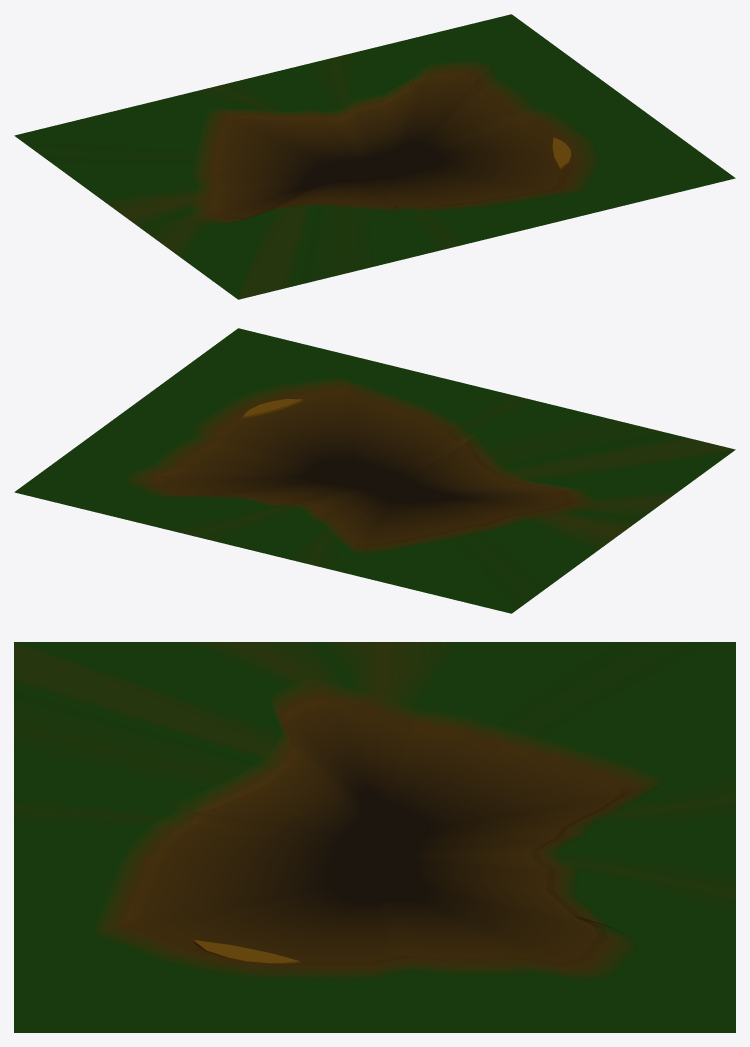
The model's file is map.dae.
3 renders of one model, top to bottom at view 1: azimuth 30°, elevation 25°; view 2: azimuth 150°, elevation 25°; view 3: azimuth 270°, elevation 25°, orthographic. The views are drawn at different scales.
Parts seen in each view (by area): view 1: Plane; view 2: Plane; view 3: Plane.
Part boxes in pixels (x1,y1,x2,y2): Plane: (14,14,735,299); Plane: (14,328,735,613); Plane: (14,642,735,1032).
Bounding box in the file's own units: 388143 × 302992 × 7508.
